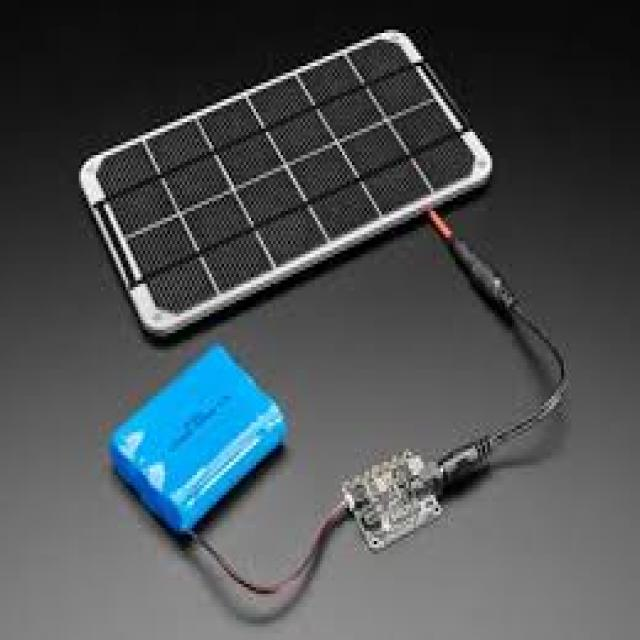no faulty: (96, 41, 476, 314)
